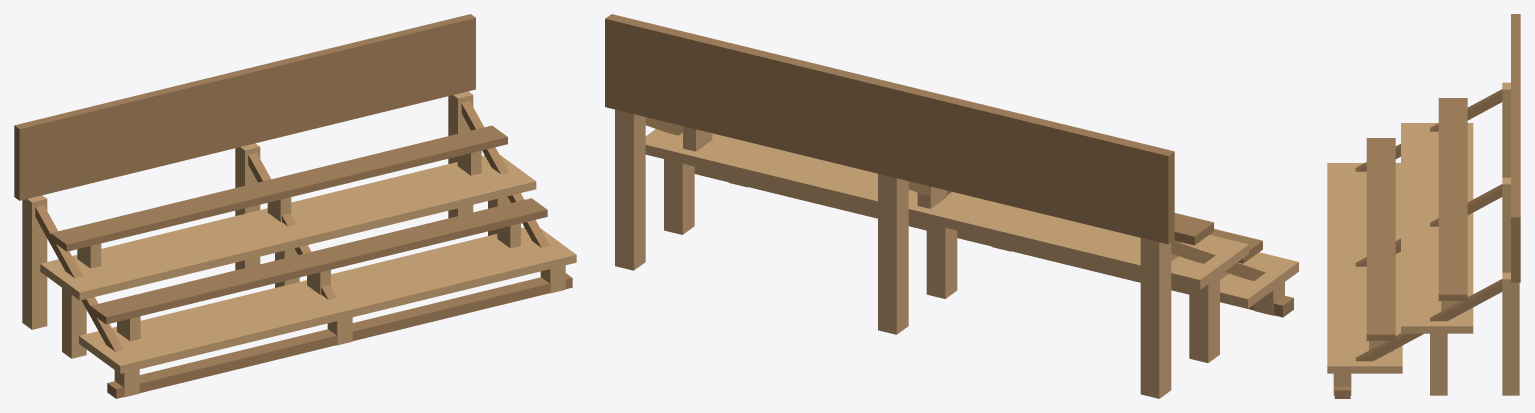
Rendered from spectator-stand-lower-tier.glb.
3 views of the same model, side by side, from view 1: azimuth 30°, elevation 25°; view 2: azimuth 150°, elevation 25°; view 3: azimuth 270°, elevation 25° (orthographic). The views are drawn at different scales.
Parts seen in each view (by area): view 1: spectator-stand-lower; view 2: spectator-stand-lower; view 3: spectator-stand-lower.
Boxes of the visible parts, x1,y1,x2,y2 form: spectator-stand-lower: (14, 14, 576, 398); spectator-stand-lower: (605, 14, 1298, 398); spectator-stand-lower: (1327, 14, 1520, 398).
Bounding box in the file's own units: 6 × 2.5 × 2.41.
